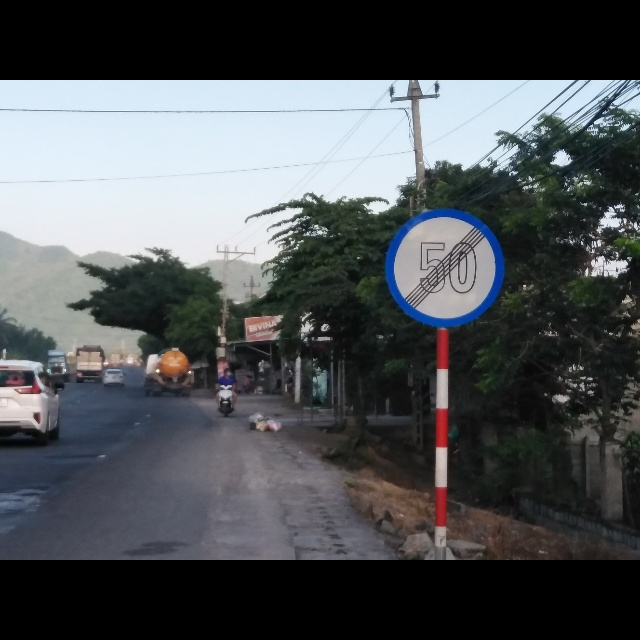Hết hạn chế tốc độ tối đa 50km/h: (382, 206, 507, 330)
